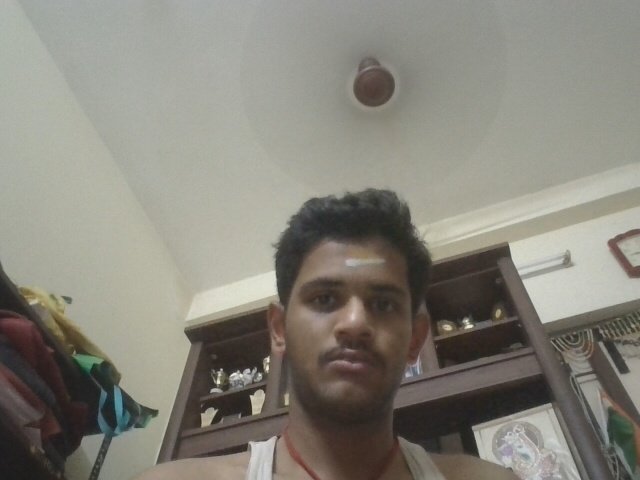real: (270, 232, 439, 401)
